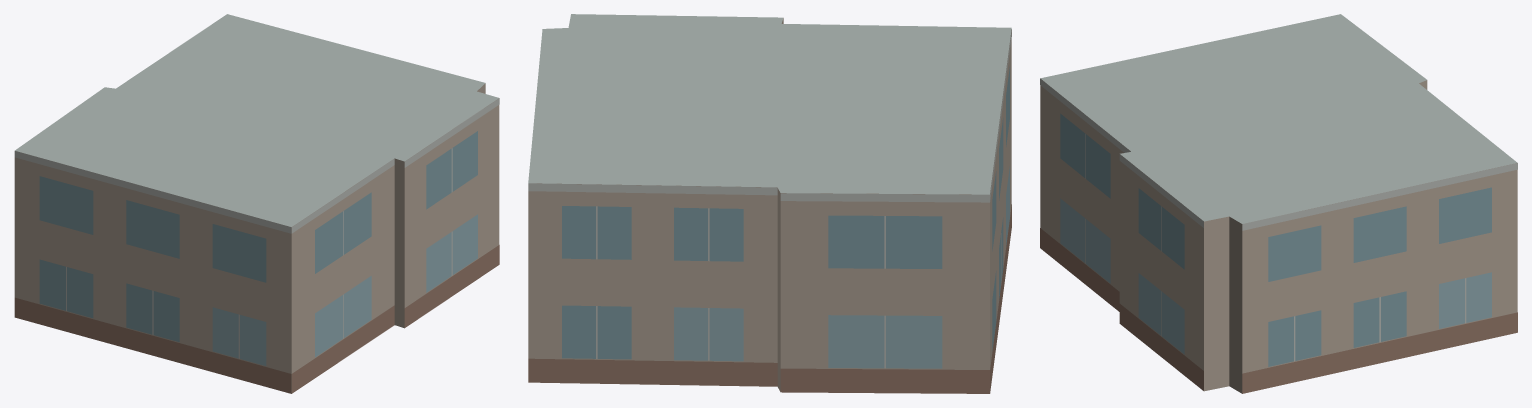
The model's file is survey-upis-33021859.glb.
The picture shows the model from 3 angles, left to right: view 1: azimuth 30°, elevation 25°; view 2: azimuth 150°, elevation 25°; view 3: azimuth 270°, elevation 25°; orthographic projection. The views are drawn at different scales.
Visible parts, largest first — view 1: survey-upis-33021859.tmp; view 2: survey-upis-33021859.tmp; view 3: survey-upis-33021859.tmp.
Boxes of the visible parts, box(x1,y1,x2,y2) form: survey-upis-33021859.tmp: box(14, 14, 499, 393); survey-upis-33021859.tmp: box(528, 14, 1011, 393); survey-upis-33021859.tmp: box(1040, 14, 1517, 393).
Size of the model in its own units: 16.2 by 6.1 by 15.56.
